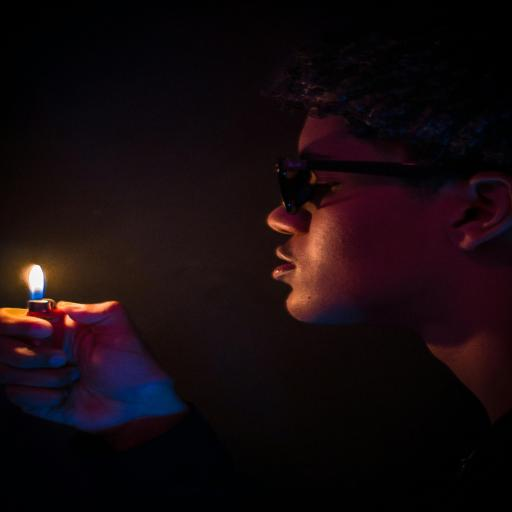lighter: (14, 251, 70, 326)
